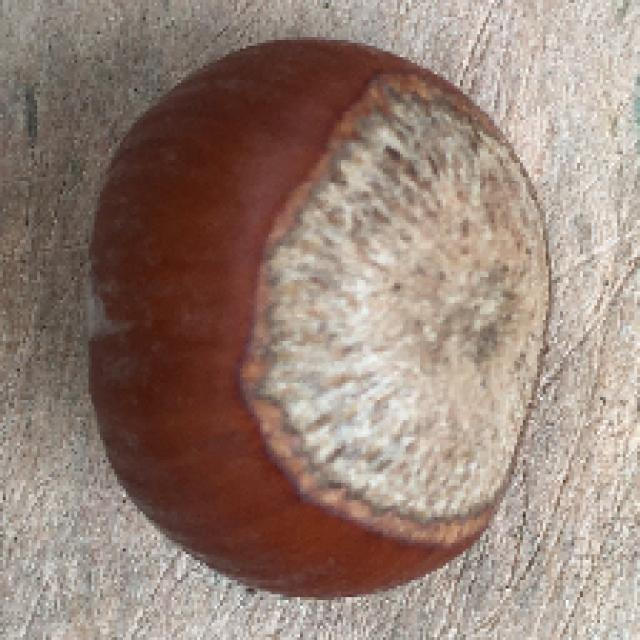QualityHazelnut: (83, 40, 553, 599)
